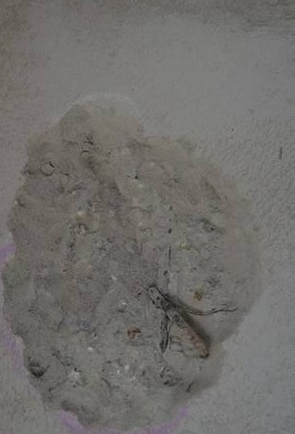Exposed reinforcement: (147, 286, 210, 358)
Spalling: (1, 90, 264, 434)
